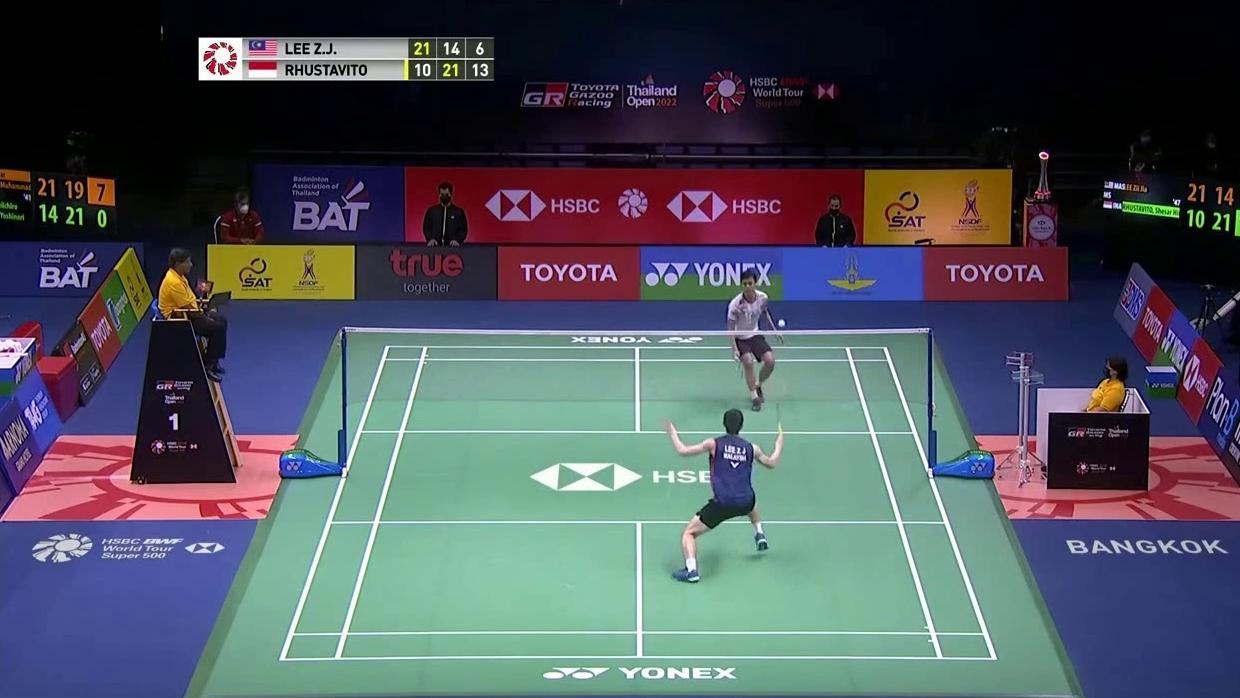racket: (773, 401, 788, 438), (733, 351, 747, 382)
shuttle: (777, 319, 787, 329)
